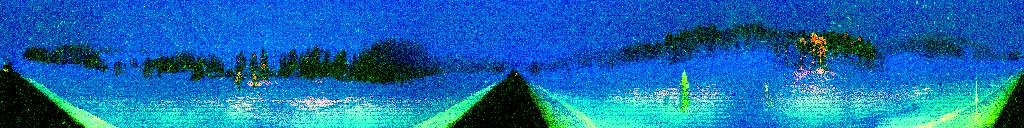pole: (974, 78, 980, 110)
